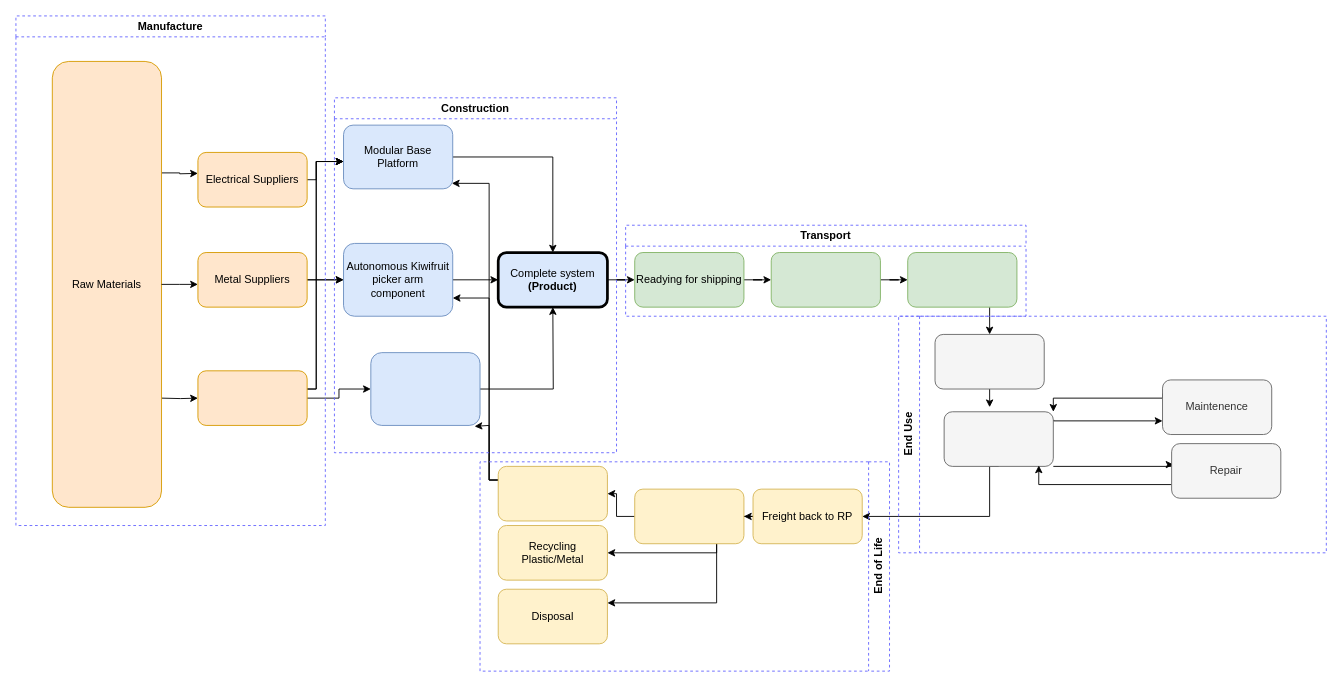
Image size: 1342x687. Some labels were removed from this diagram. The centre of each missing label's shape, as x and y in pixels:
"Disassembly" goes at [689,516].
"Freight Transport" goes at [825,279].
"Kiwifruit pollinator component" goes at [425,388].
"Mechanical suppliers" goes at [252,397].
"Onsite setup by contractor/employee" goes at [989,361].
"Reuse of components" goes at [552,493].
"Unloading" goes at [962,279].
"Use" goes at [998,438].
